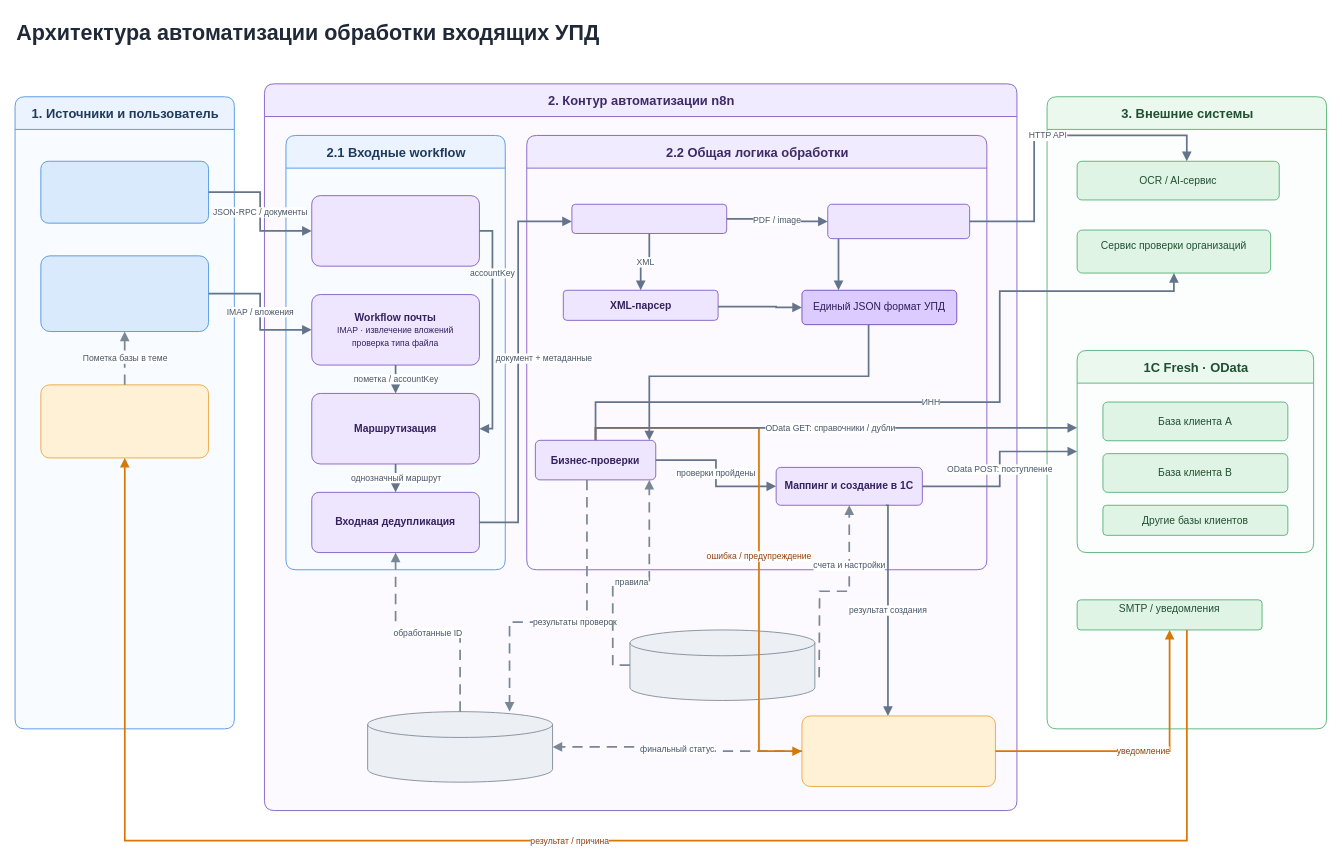
Image size: 1342x863. Some labels were removed from this diagram. The shapes that lost their labels are listed below. From the top down, each one's centre as x and y in pixels, then its label:
the point at 124,191: СБИС
the point at 395,230: Workflow СБИС Запуск по расписанию получение списка и карточки
the point at 649,218: Определение формата
the point at 898,221: OCR AI
the point at 124,293: Электронная почта
the point at 124,421: Бухгалтер
the point at 722,664: Правила учёта Data Table / настройки поставщиков
the point at 460,746: Состояние обработки Обработанные ID, статусы, попытки
the point at 898,750: Итоговый статус
